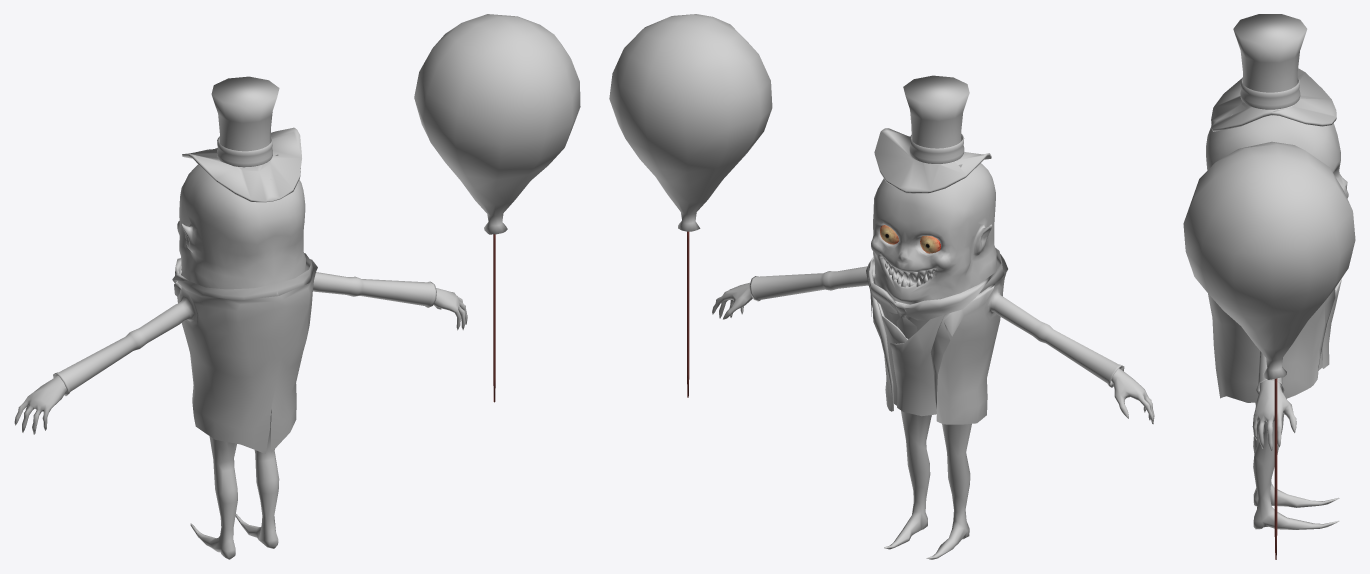
File: Baloon.fbx
The picture shows the model from 3 angles, left to right: view 1: azimuth 30°, elevation 25°; view 2: azimuth 150°, elevation 25°; view 3: azimuth 270°, elevation 25°; orthographic projection. The views are drawn at different scales.
Visible parts, largest first — view 1: baloon, ceket, head, sapka, bacaklar, gomlek, el1, el2; view 2: baloon, ceket, head, sapka, bacaklar, yelek2, gomlek, el1, el2, yelek1; view 3: baloon, sapka, ceket, head, bacaklar, el2, balon ip, yelek2.
Part boxes in pixels (x1,y1,x2,y2): baloon: [414, 14, 580, 234]; ceket: [53, 259, 436, 453]; head: [177, 164, 306, 289]; sapka: [182, 76, 301, 202]; bacaklar: [190, 408, 279, 559]; gomlek: [172, 253, 314, 300]; el1: [14, 375, 67, 434]; el2: [433, 288, 467, 330]; baloon: [609, 14, 772, 231]; ceket: [749, 254, 1124, 424]; head: [871, 163, 997, 304]; sapka: [874, 75, 991, 193]; bacaklar: [884, 410, 971, 559]; yelek2: [890, 315, 944, 416]; gomlek: [866, 248, 1004, 330]; el1: [1111, 368, 1154, 424]; el2: [712, 282, 752, 319]; yelek1: [877, 301, 907, 405]; baloon: [1183, 141, 1355, 379]; sapka: [1211, 14, 1336, 131]; ceket: [1208, 288, 1335, 402]; head: [1206, 115, 1348, 198]; bacaklar: [1253, 402, 1339, 529]; el2: [1252, 380, 1296, 451]; balon ip: [1274, 378, 1277, 559]; yelek2: [1321, 279, 1341, 368].
Size of the model in its own units: 165 by 133 by 41.75.
